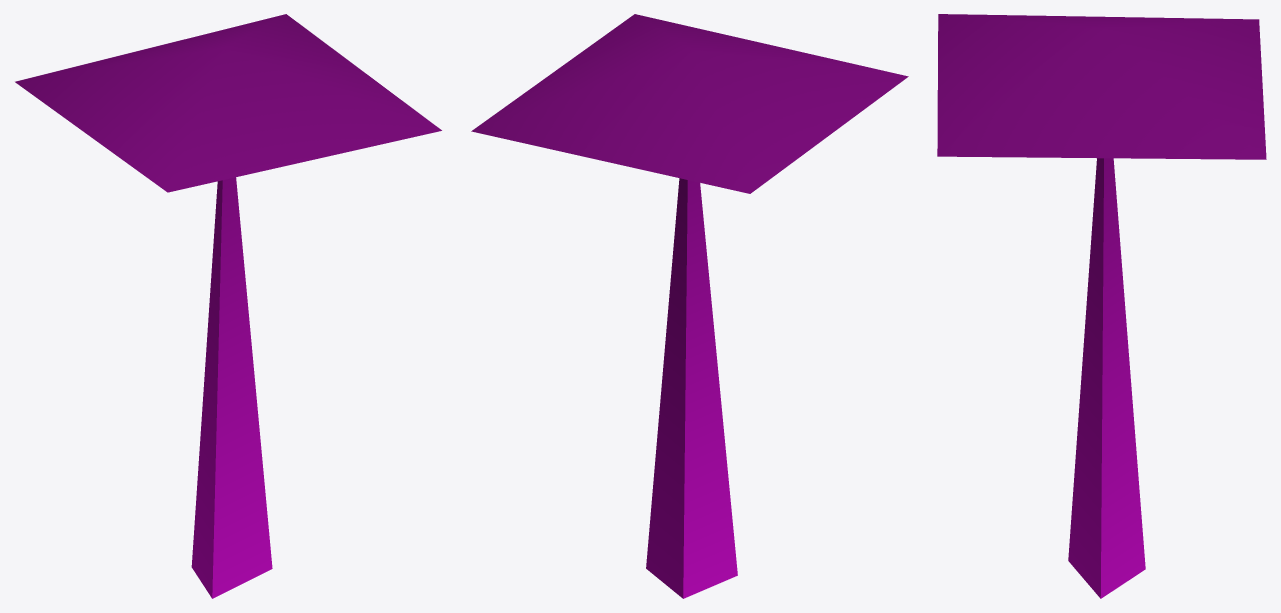
File: sunflower.fbx
The picture shows the model from 3 angles, left to right: view 1: azimuth 30°, elevation 25°; view 2: azimuth 150°, elevation 25°; view 3: azimuth 270°, elevation 25°; orthographic projection. The views are drawn at different scales.
Parts seen in each view (by area): view 1: Plant_Sunflower; view 2: Plant_Sunflower; view 3: Plant_Sunflower.
Part boxes in pixels (bbox=[...]): Plant_Sunflower: bbox=[15, 14, 441, 598]; Plant_Sunflower: bbox=[471, 14, 908, 598]; Plant_Sunflower: bbox=[937, 14, 1266, 598].
Bounding box in the file's own units: 168 × 307 × 168.
